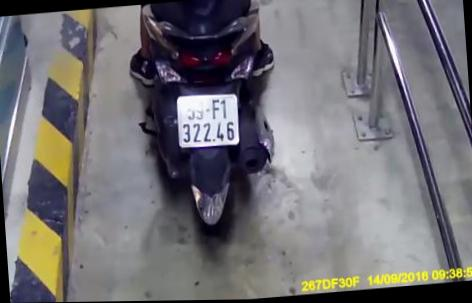LP: (175, 91, 241, 149)
